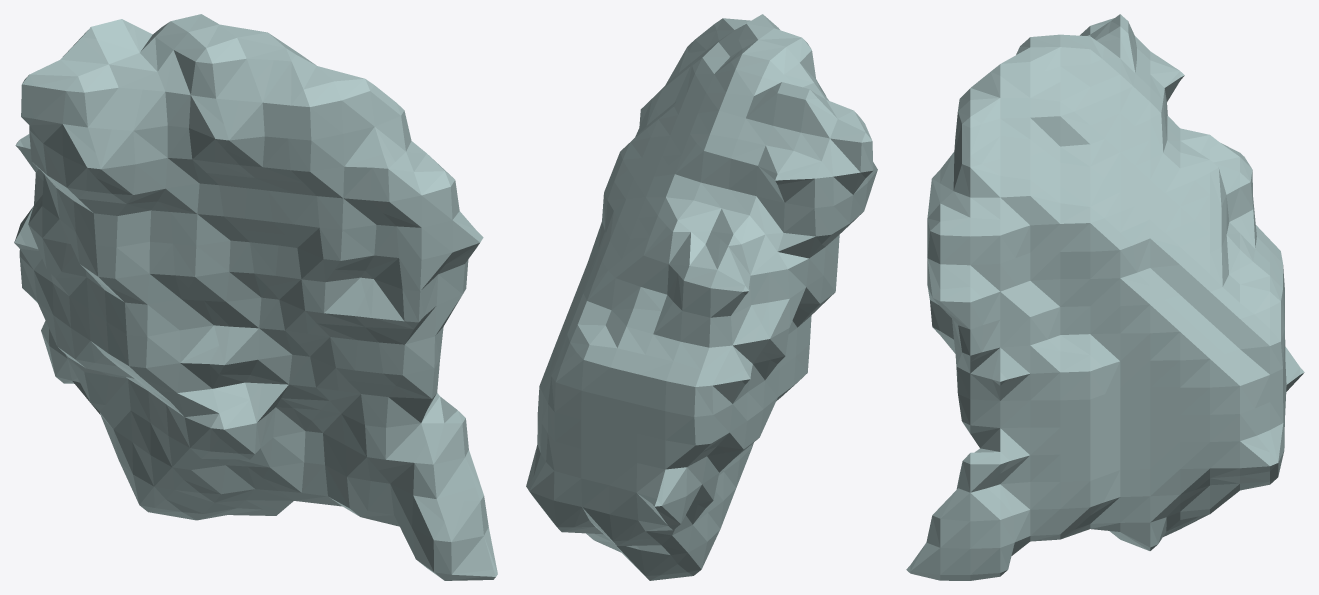
The model's file is l_accumbens.glb.
3 views of the same model, side by side, from view 1: azimuth 30°, elevation 25°; view 2: azimuth 150°, elevation 25°; view 3: azimuth 270°, elevation 25° (orthographic). The views are drawn at different scales.
Visible parts, largest first — view 1: world; view 2: world; view 3: world.
Boxes of the visible parts, x1,y1,x2,y2 form: world: (14,14,497,580); world: (526,14,877,580); world: (906,14,1304,580).
Bounding box in the file's own units: 11.77 × 16.92 × 13.3.
